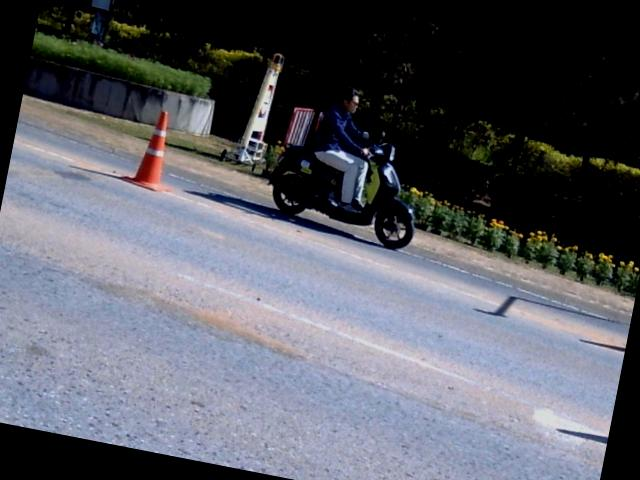motor: (268, 144, 413, 247)
no-helmet: (336, 85, 359, 113)
person: (308, 86, 369, 212)
